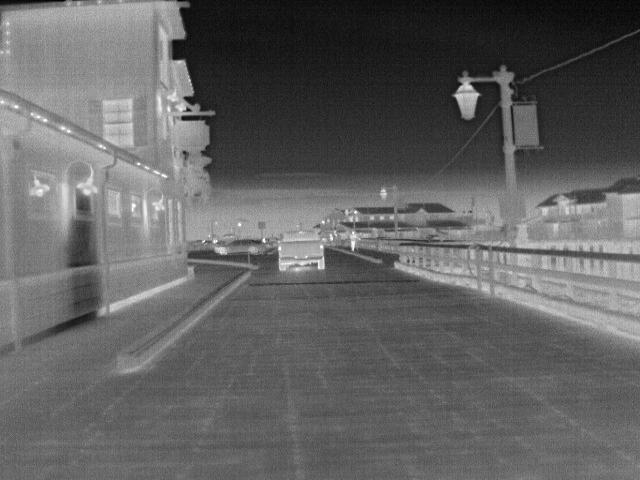car: (277, 227, 327, 272), (216, 237, 270, 256)
person: (348, 229, 360, 255)
